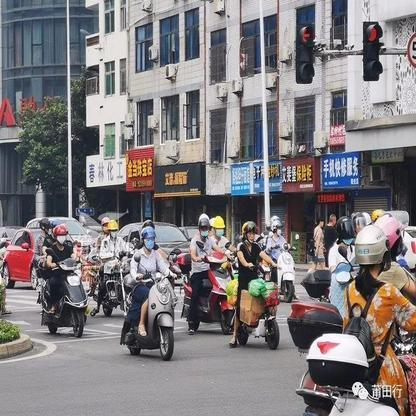target: (120, 226, 179, 362), (231, 220, 285, 352), (38, 224, 95, 340), (180, 214, 232, 337)
